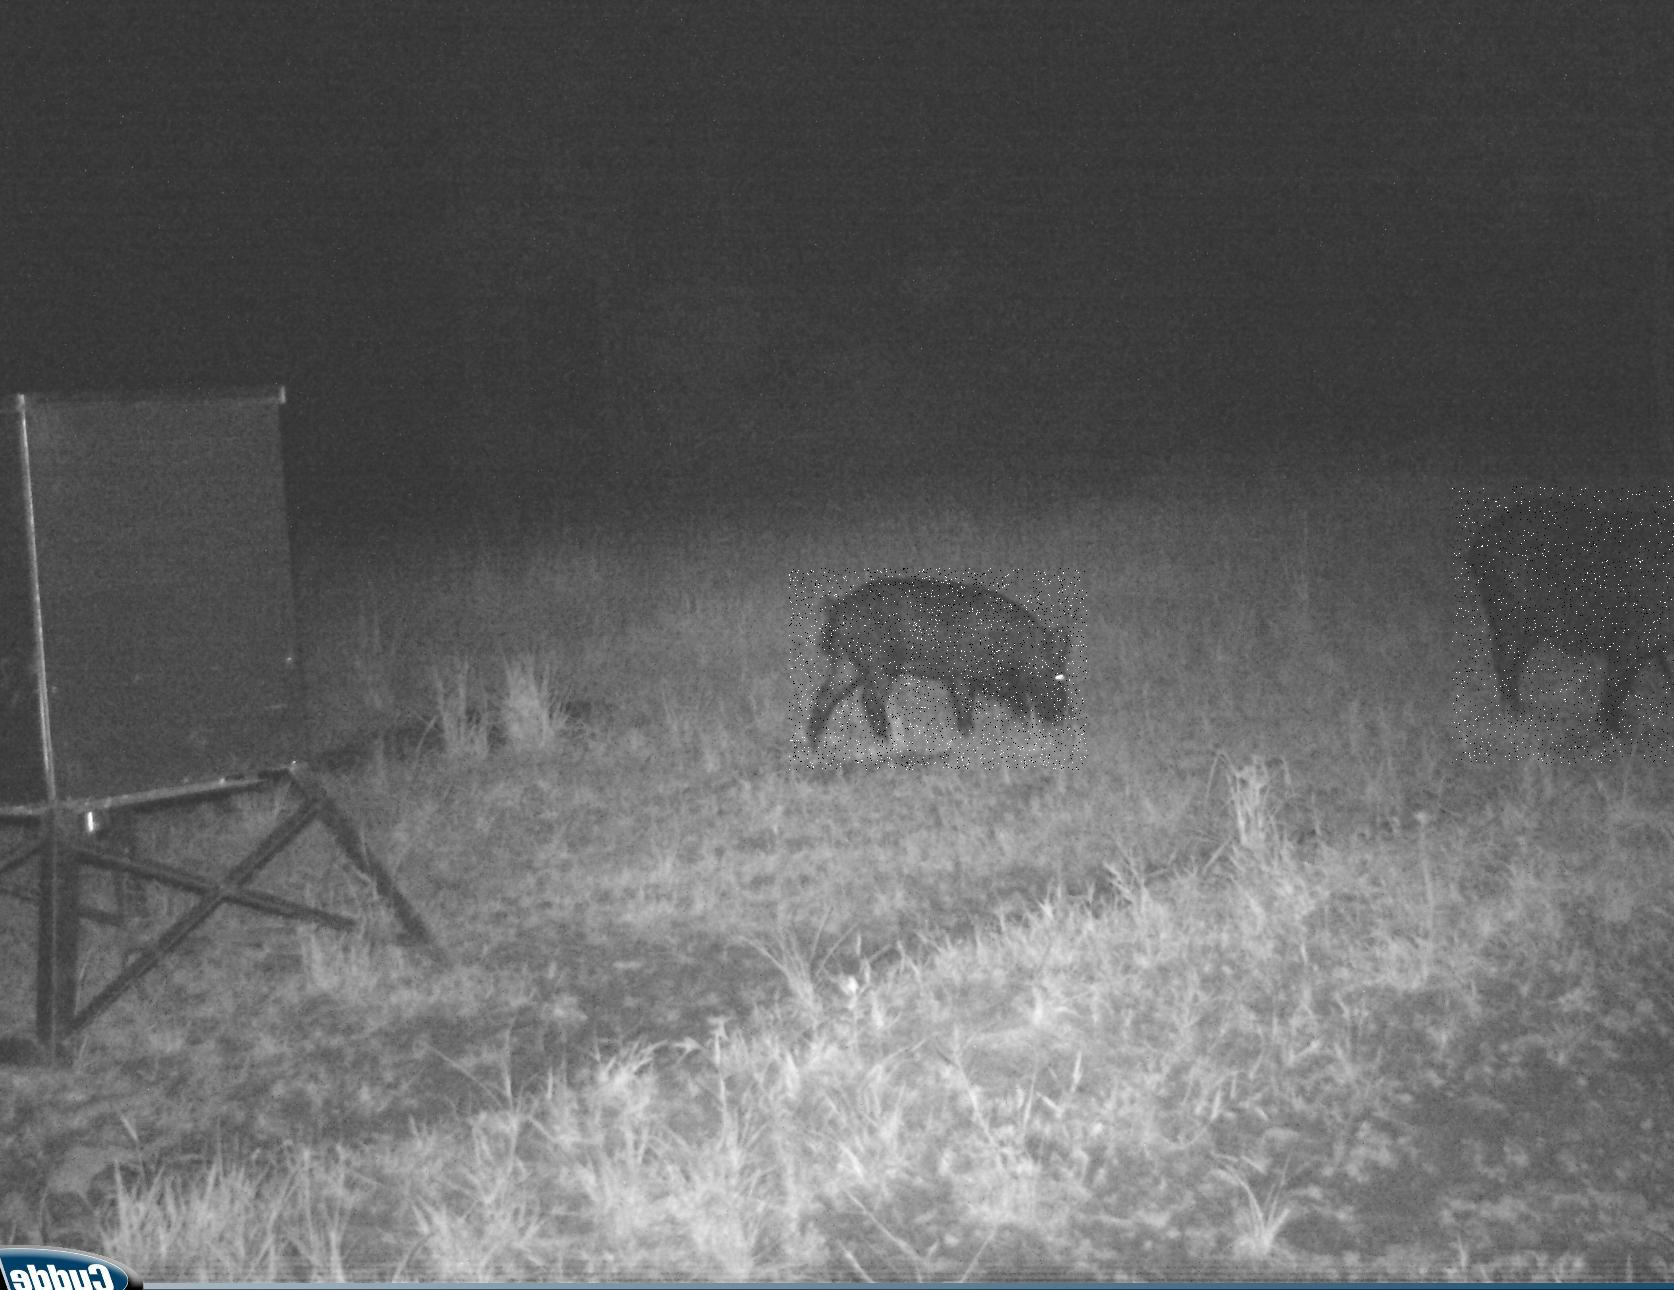Hog: (1452, 486, 1674, 764), (790, 568, 1088, 770)
